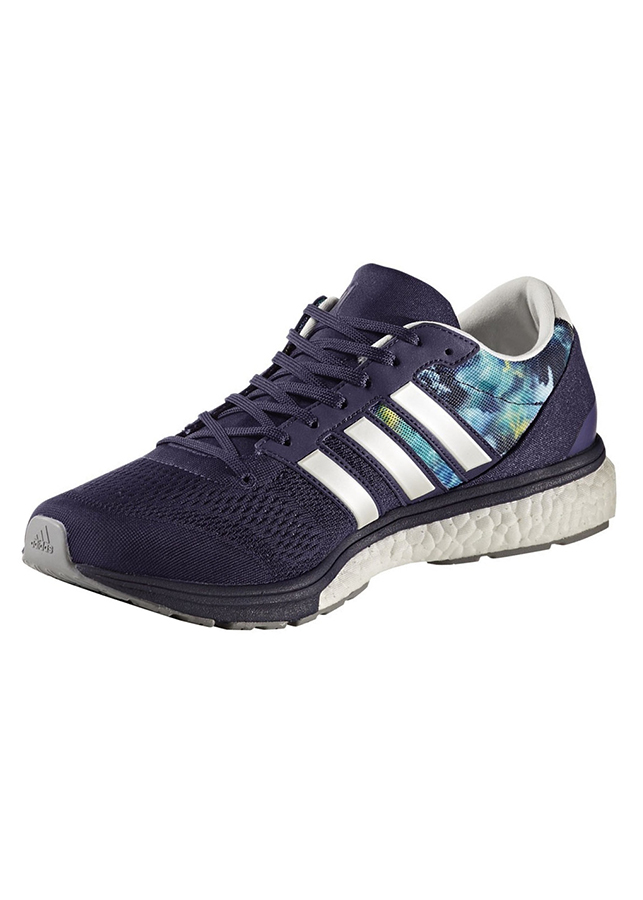Adidas: (26, 520, 59, 562)
